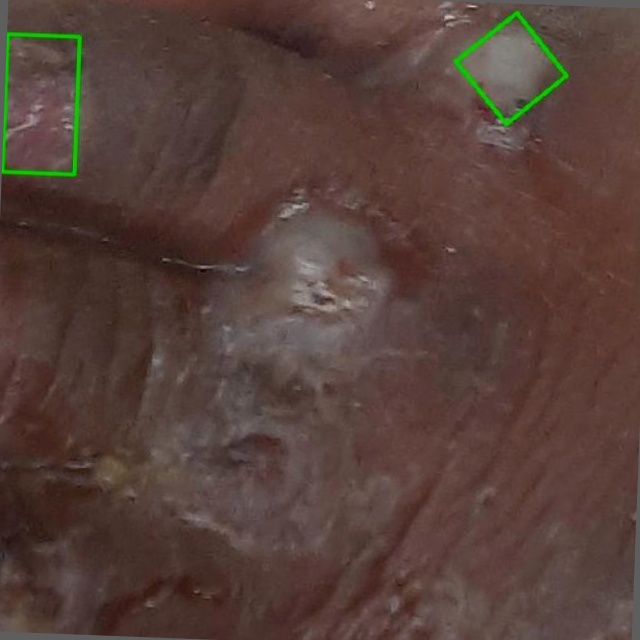Eczema: (456, 13, 566, 124), (2, 33, 79, 174)
